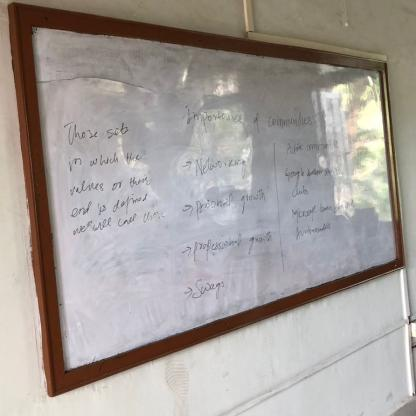Handwritten text: (175, 100, 334, 138), (62, 184, 157, 224), (60, 142, 149, 176), (286, 201, 358, 242), (60, 110, 141, 146), (65, 169, 157, 200), (196, 189, 279, 218), (192, 231, 277, 258), (192, 150, 259, 184), (284, 161, 345, 198), (287, 139, 347, 157), (194, 277, 229, 304)
